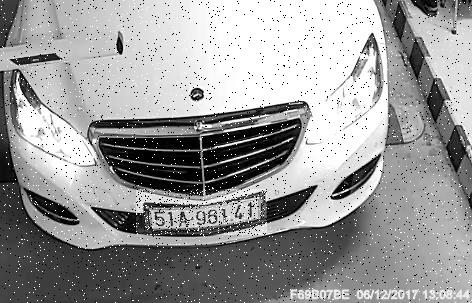License-plate: (137, 190, 268, 236)
